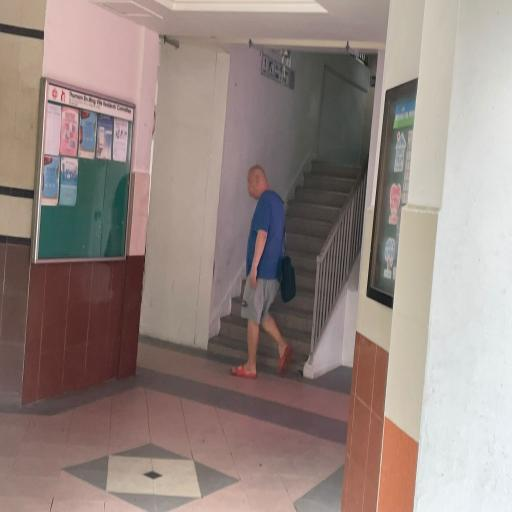person_left: (231, 156, 302, 382)
